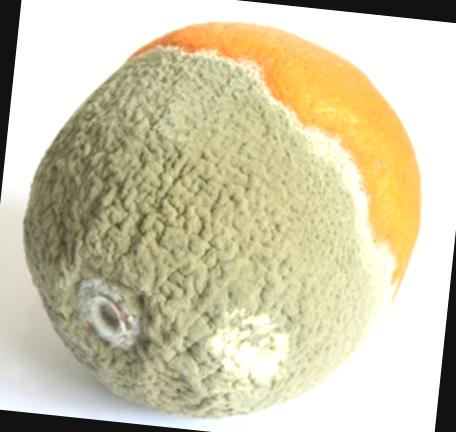Orange Rotten: (3, 0, 450, 432)
